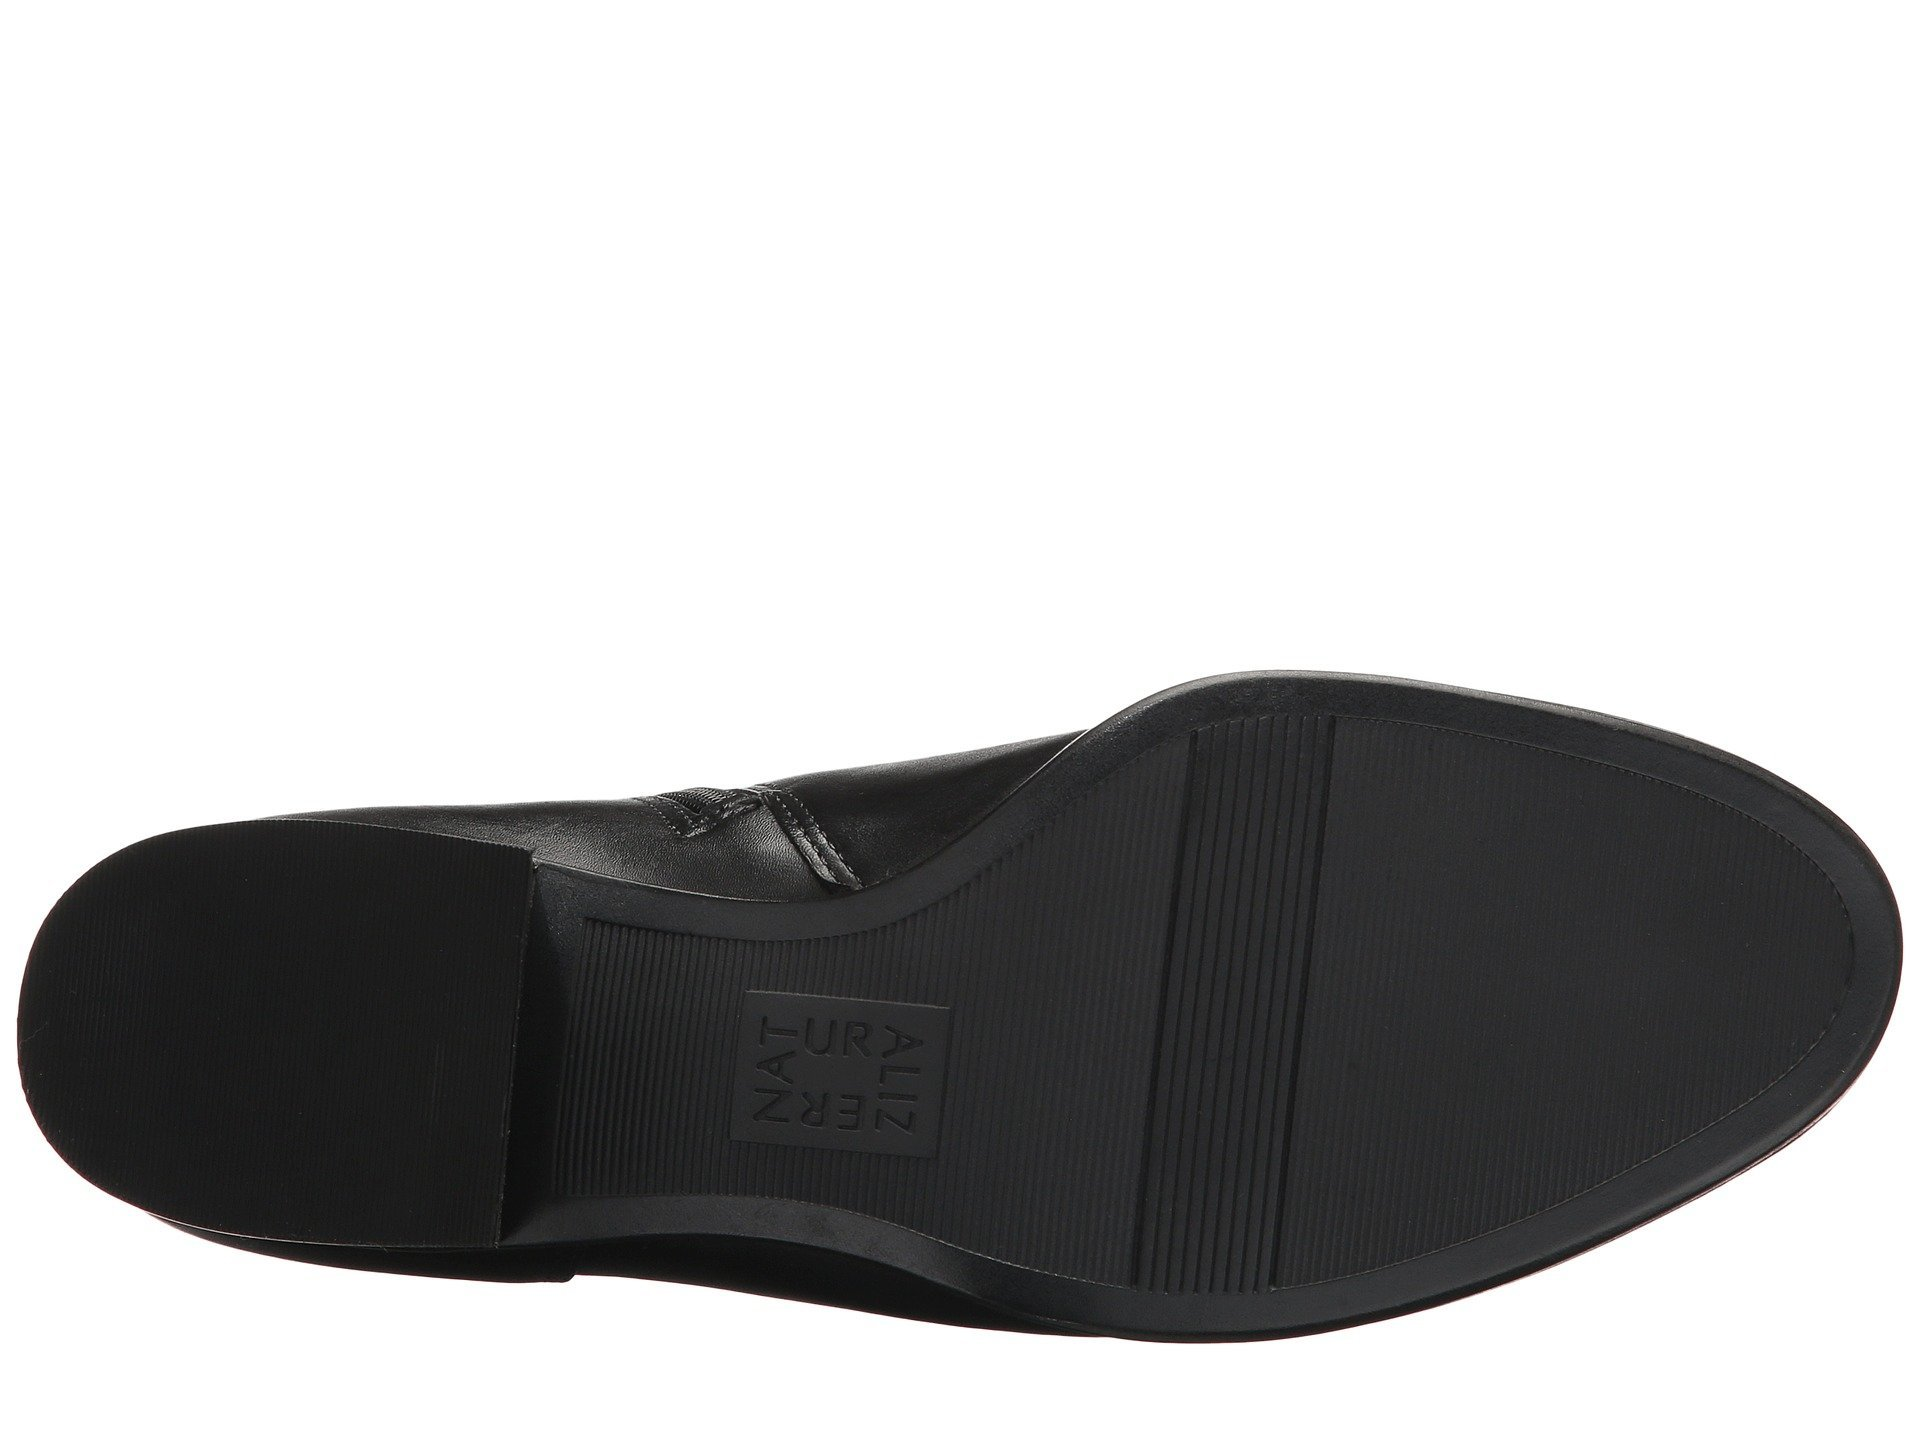line: (1163, 709, 1690, 1196), (732, 959, 965, 1178), (558, 905, 700, 1192)
quad: (732, 959, 965, 1178)
text: (732, 959, 965, 1178)
